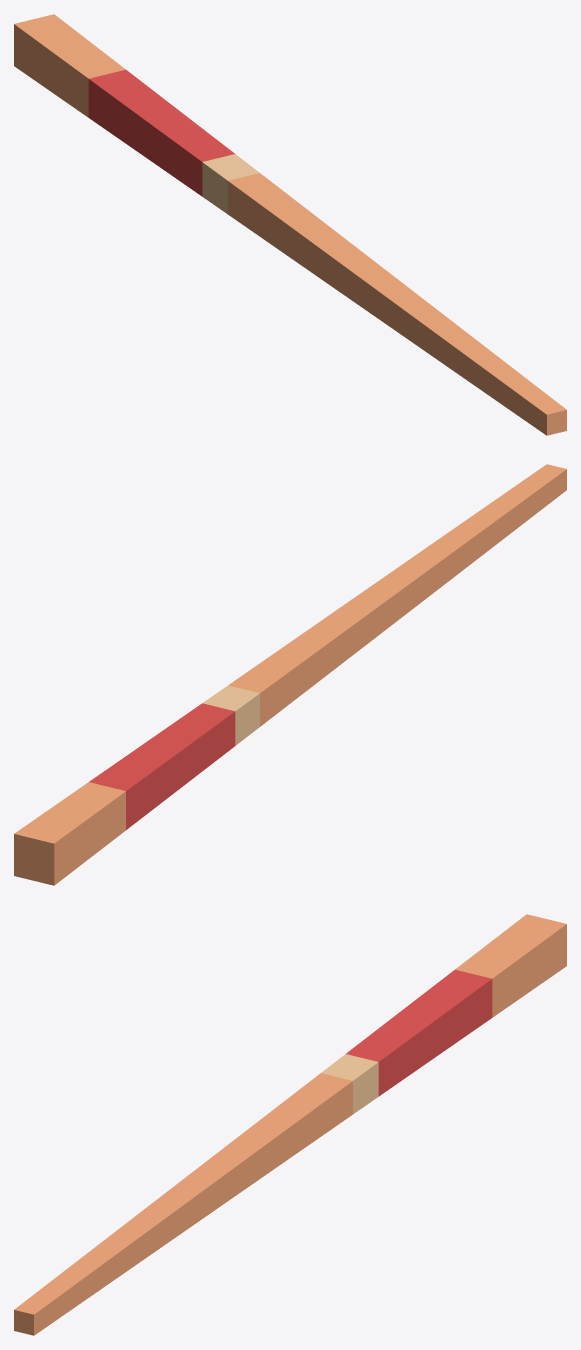
File: chopstickFancy.obj
The picture shows the model from 3 angles, top to bottom: view 1: azimuth 30°, elevation 25°; view 2: azimuth 150°, elevation 25°; view 3: azimuth 330°, elevation 25°; orthographic projection.
Parts seen in each view (by area): view 1: chopstickFancy; view 2: chopstickFancy; view 3: chopstickFancy.
Boxes of the visible parts, box(x1,y1,x2,y2) form: chopstickFancy: box(14, 14, 566, 435); chopstickFancy: box(14, 464, 566, 885); chopstickFancy: box(14, 914, 566, 1335).
Bounding box in the file's own units: 0.02 × 0.02 × 0.45.
